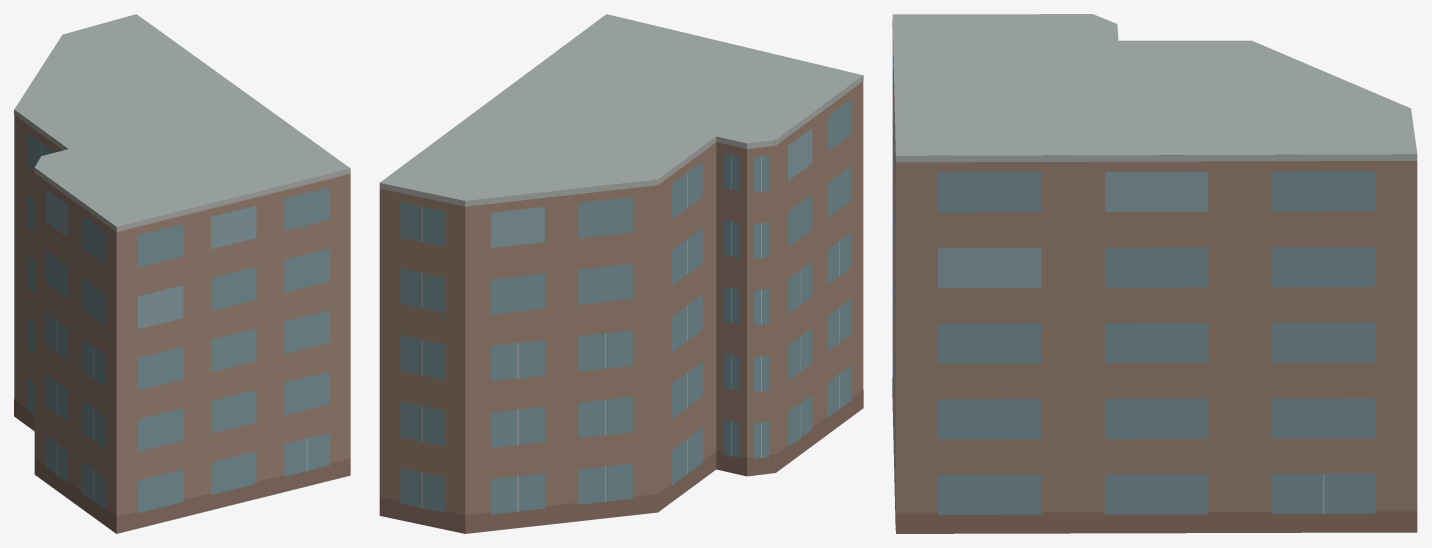
The model's file is survey-upis-32671021.glb.
The picture shows the model from 3 angles, left to right: view 1: azimuth 30°, elevation 25°; view 2: azimuth 150°, elevation 25°; view 3: azimuth 270°, elevation 25°; orthographic projection. The views are drawn at different scales.
Parts seen in each view (by area): view 1: survey-upis-32671021.tmp; view 2: survey-upis-32671021.tmp; view 3: survey-upis-32671021.tmp.
Part boxes in pixels (bbox=[...]): survey-upis-32671021.tmp: bbox=[14, 14, 350, 533]; survey-upis-32671021.tmp: bbox=[379, 14, 863, 533]; survey-upis-32671021.tmp: bbox=[892, 14, 1417, 533].
Bounding box in the file's own units: 11.44 × 14.2 × 17.88.
